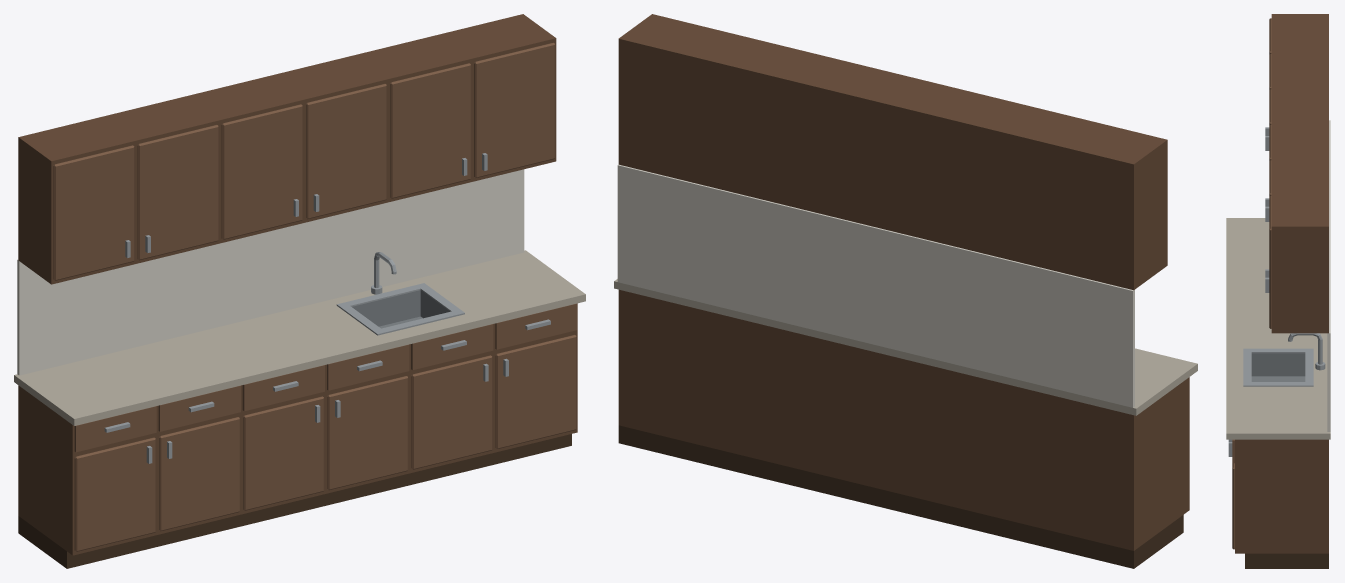
Rendered from plan_travail_evier.glb.
3 renders of one model, left to right at view 1: azimuth 30°, elevation 25°; view 2: azimuth 150°, elevation 25°; view 3: azimuth 270°, elevation 25°, orthographic. The views are drawn at different scales.
Parts seen in each view (by area): view 1: wall_doors, doors, splashback, worktop, wall_units, base, drawers, plinth, basin, rim, pulls; view 2: wall_units, base, splashback, plinth, worktop; view 3: wall_units, worktop, base, basin, plinth, rim, wall_doors, splashback, tap, doors, wall_knobs_r.
Boxes of the visible parts, left/top/right/bottom form: wall_doors: left=53, top=42, right=555, bottom=280; doors: left=74, top=335, right=576, bottom=551; splashback: left=17, top=169, right=524, bottom=375; worktop: left=14, top=250, right=585, bottom=425; wall_units: left=18, top=14, right=556, bottom=284; base: left=18, top=303, right=577, bottom=555; drawers: left=74, top=303, right=577, bottom=452; plinth: left=18, top=434, right=571, bottom=568; basin: left=352, top=290, right=449, bottom=328; rim: left=336, top=283, right=464, bottom=335; pulls: left=104, top=319, right=550, bottom=432; wall_units: left=618, top=14, right=1167, bottom=290; base: left=618, top=289, right=1189, bottom=550; splashback: left=617, top=164, right=1134, bottom=407; plinth: left=618, top=425, right=1183, bottom=568; worktop: left=614, top=279, right=1197, bottom=415; wall_units: left=1271, top=14, right=1328, bottom=333; worktop: left=1226, top=218, right=1330, bottom=439; base: left=1235, top=439, right=1328, bottom=553; basin: left=1251, top=353, right=1305, bottom=381; plinth: left=1245, top=553, right=1328, bottom=568; rim: left=1243, top=348, right=1313, bottom=386; wall_doors: left=1269, top=18, right=1271, bottom=328; splashback: left=1327, top=120, right=1330, bottom=431; tap: left=1288, top=333, right=1322, bottom=364; doors: left=1232, top=463, right=1234, bottom=549; wall_knobs_r: left=1265, top=136, right=1269, bottom=292.
Bounding box in the file's own units: 3.04 × 2.25 × 0.62.
7 materials, 7 textured.
